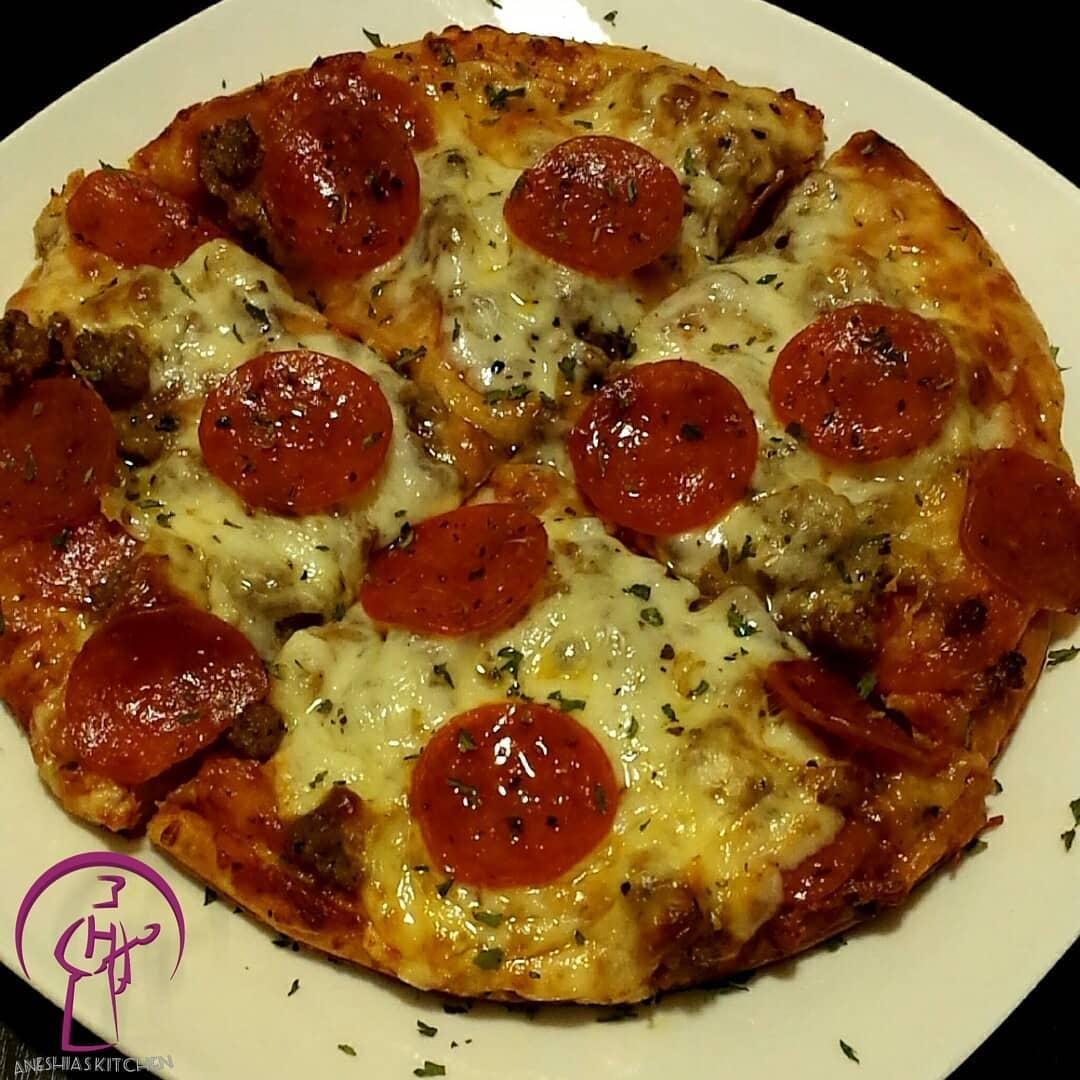Pepperoni: (409, 704, 618, 887), (64, 611, 267, 784), (574, 359, 757, 530), (198, 354, 391, 516), (768, 303, 957, 461), (259, 107, 421, 279), (505, 133, 685, 276), (362, 501, 549, 634), (770, 657, 943, 770), (0, 370, 116, 536), (965, 453, 1080, 619), (274, 54, 437, 155), (67, 168, 202, 266)
Pizza: (0, 23, 1080, 1002)
